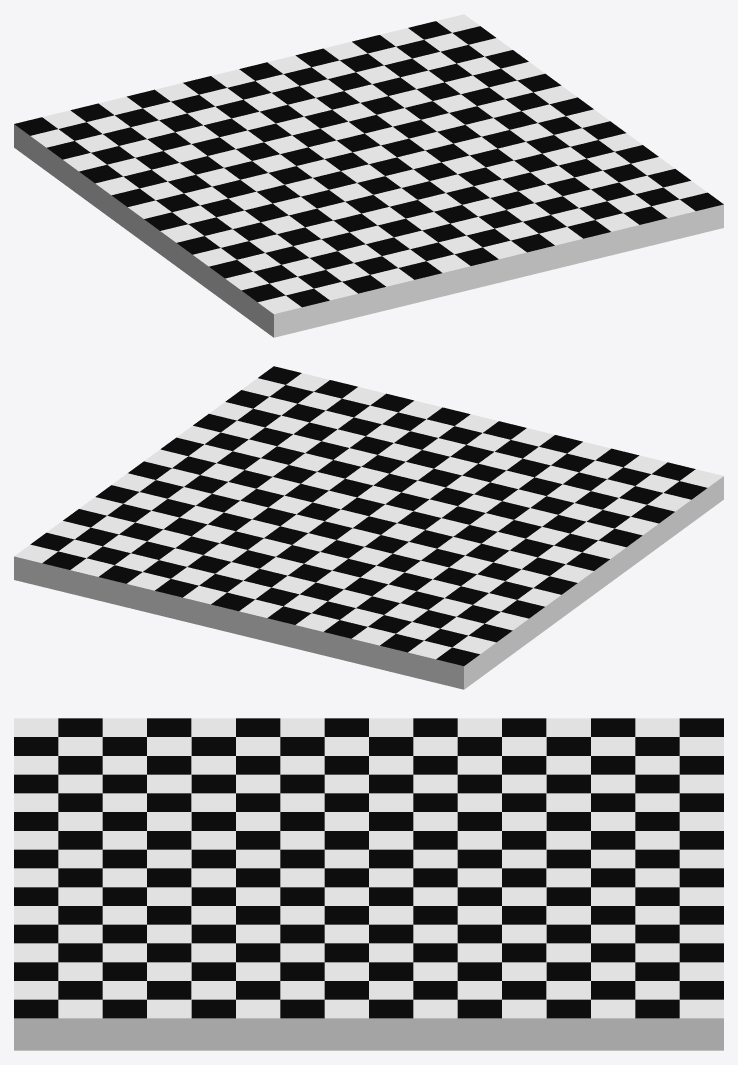
The model's file is Plochki.fbx.
The picture shows the model from 3 angles, top to bottom: view 1: azimuth 30°, elevation 25°; view 2: azimuth 150°, elevation 25°; view 3: azimuth 270°, elevation 25°; orthographic projection. The views are drawn at different scales.
Visible parts, largest first — view 1: Cube; view 2: Cube; view 3: Cube.
Boxes of the visible parts, bbox=[...] form: Cube: bbox=[14, 14, 723, 337]; Cube: bbox=[14, 366, 723, 689]; Cube: bbox=[14, 718, 723, 1050].
Size of the model in its own units: 4000 by 200 by 4000.
1 material, 1 textured.
